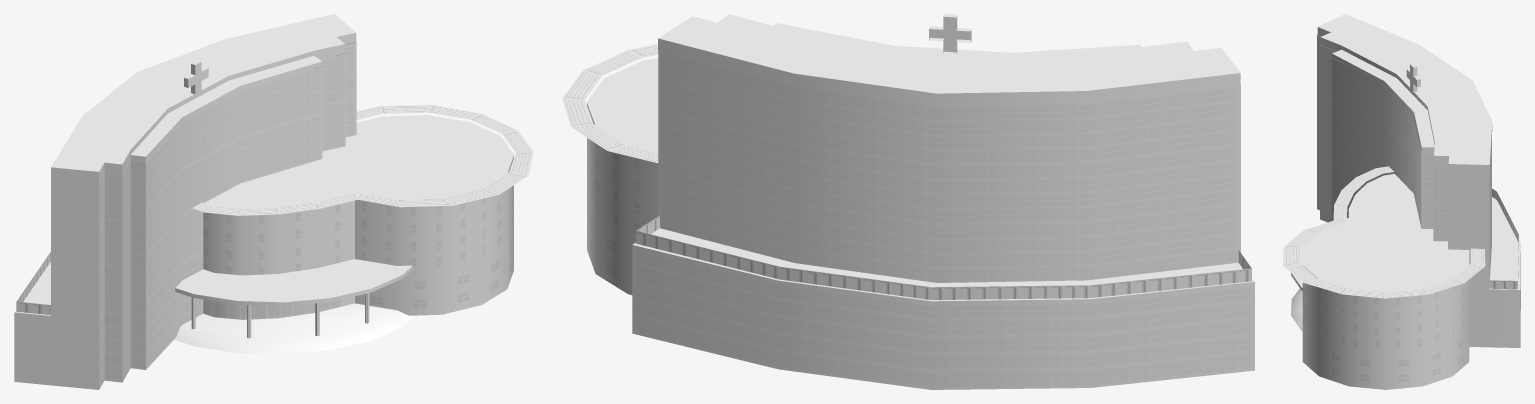
3 views of the same model, side by side, from view 1: azimuth 30°, elevation 25°; view 2: azimuth 150°, elevation 25°; view 3: azimuth 270°, elevation 25° (orthographic). The views are drawn at different scales.
Parts seen in each view (by area): view 1: 5b837f200b0b092bb84ad873.001; view 2: 5b837f200b0b092bb84ad873.001; view 3: 5b837f200b0b092bb84ad873.001.
Boxes of the visible parts, x1,y1,x2,y2 form: 5b837f200b0b092bb84ad873.001: [14, 14, 533, 389]; 5b837f200b0b092bb84ad873.001: [562, 14, 1254, 389]; 5b837f200b0b092bb84ad873.001: [1283, 14, 1520, 389].
Size of the model in its own units: 140 by 65.06 by 66.72.
1 material, 1 textured.
